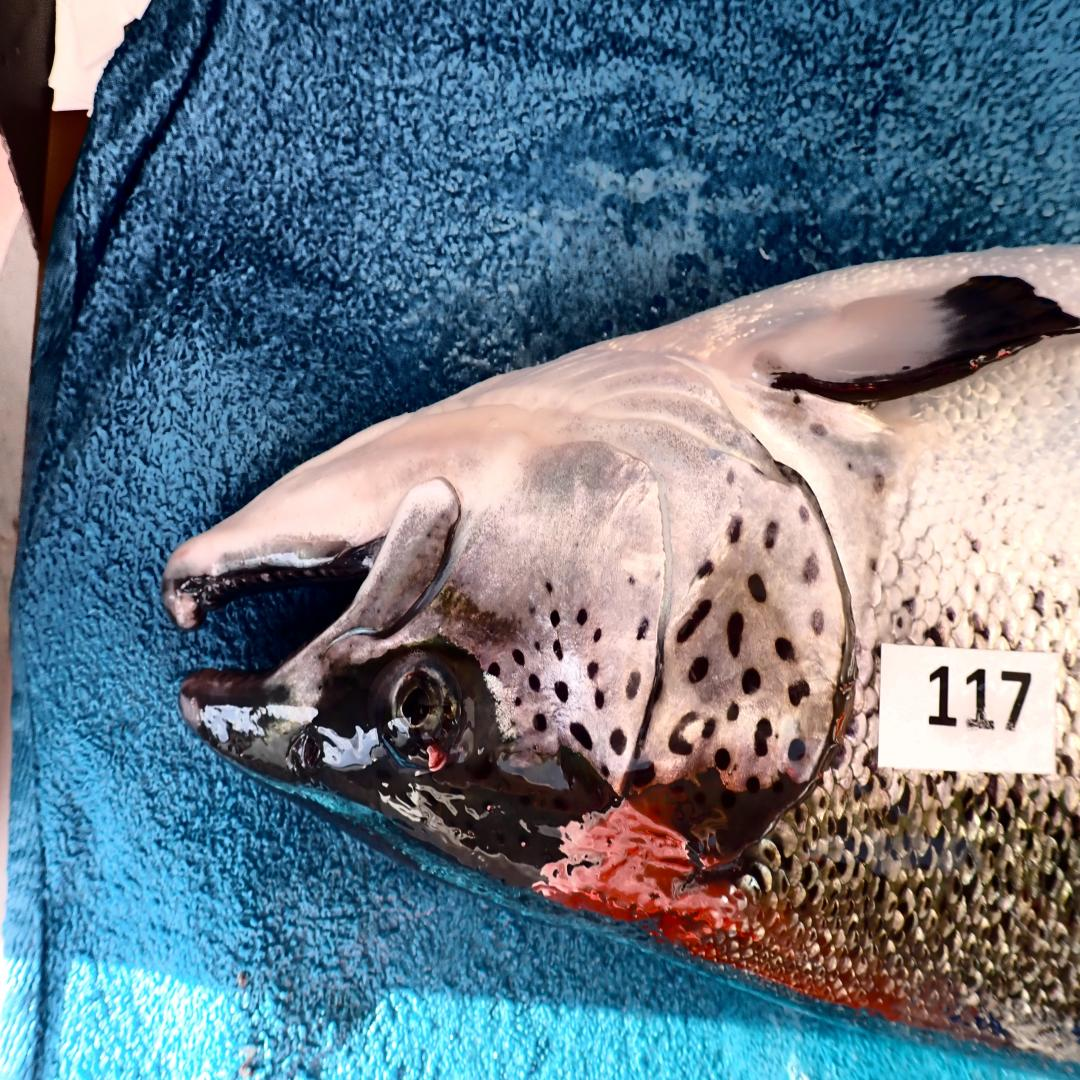spot: (677, 599, 711, 644), (669, 712, 698, 757), (626, 762, 656, 788), (728, 613, 745, 658), (755, 717, 772, 757), (570, 723, 593, 751), (688, 655, 709, 683), (749, 574, 768, 602), (789, 681, 810, 706), (742, 669, 761, 695), (774, 638, 795, 661), (804, 554, 821, 582), (789, 737, 806, 762), (626, 672, 641, 700), (610, 728, 626, 754), (764, 520, 778, 548), (810, 610, 825, 636), (728, 518, 742, 543), (715, 748, 730, 771), (555, 681, 570, 703), (699, 560, 715, 579), (702, 719, 715, 740), (637, 619, 650, 638), (553, 638, 563, 661), (798, 505, 810, 524), (576, 608, 589, 624), (746, 776, 759, 792), (534, 714, 546, 731), (513, 650, 525, 667), (725, 468, 735, 487), (529, 675, 540, 692), (487, 664, 500, 678), (728, 703, 738, 720), (589, 661, 599, 678), (595, 689, 603, 709), (551, 610, 559, 627), (601, 763, 610, 778), (544, 581, 553, 594), (593, 627, 601, 641), (529, 605, 537, 614), (629, 576, 636, 586), (515, 696, 521, 706), (534, 642, 540, 652)
